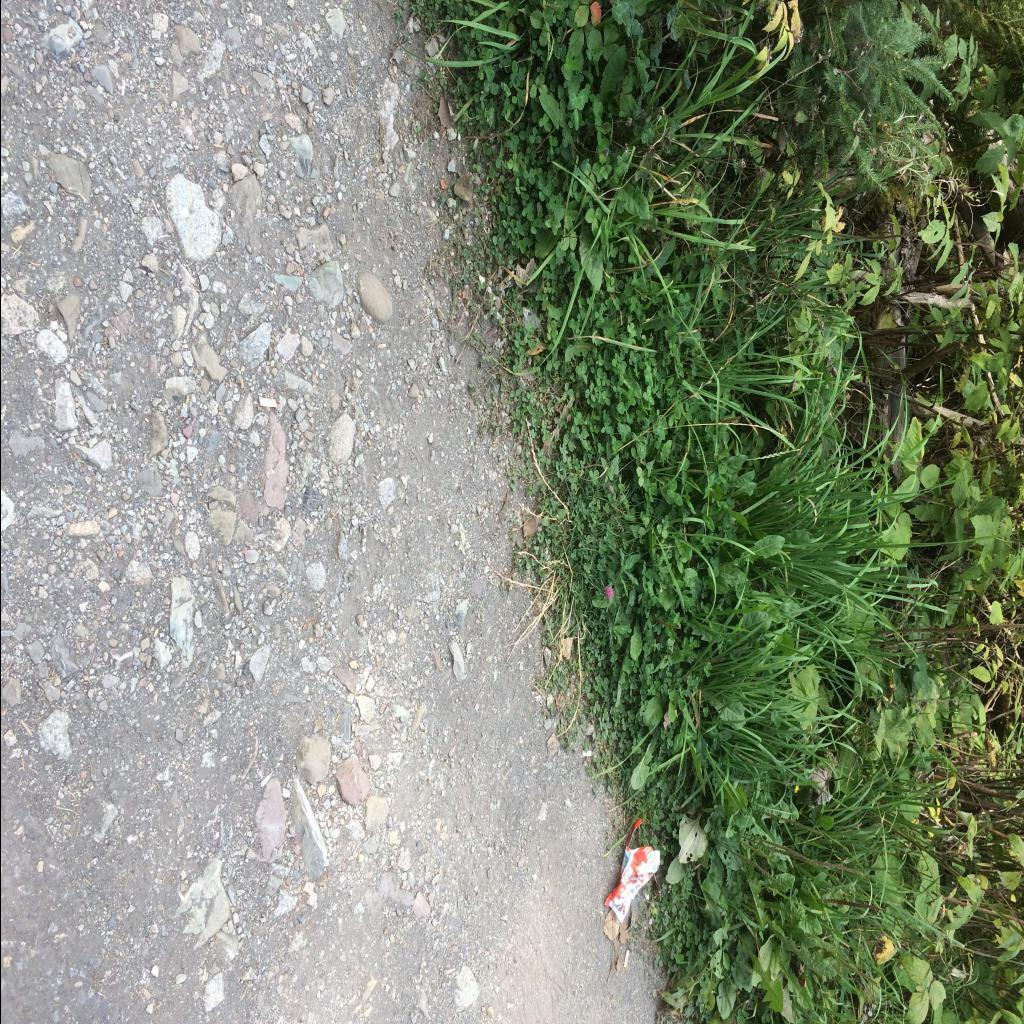Cigarette: (257, 396, 275, 408)
Other plastic: (602, 818, 658, 923)
